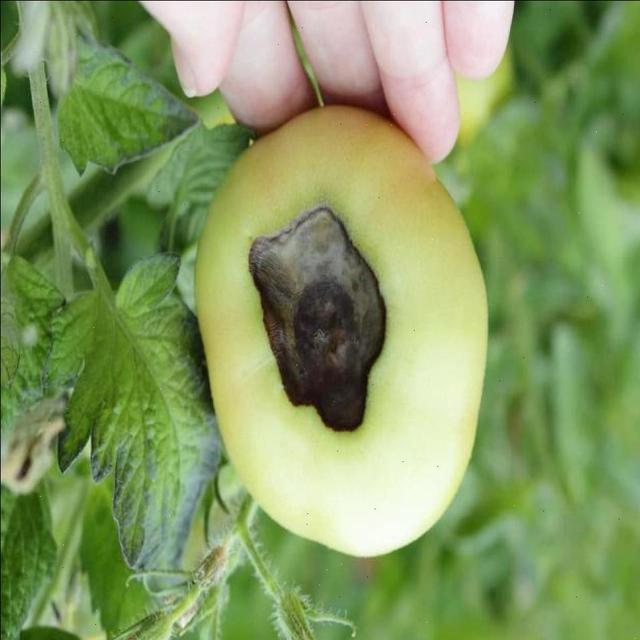Blossom End Rot Fruit: (163, 134, 260, 291)
